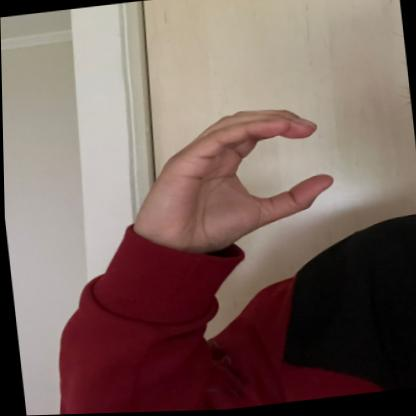C: (123, 98, 339, 272)
